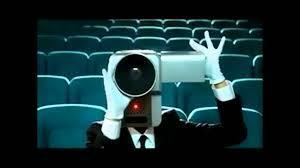no more kid: (109, 46, 207, 129)
